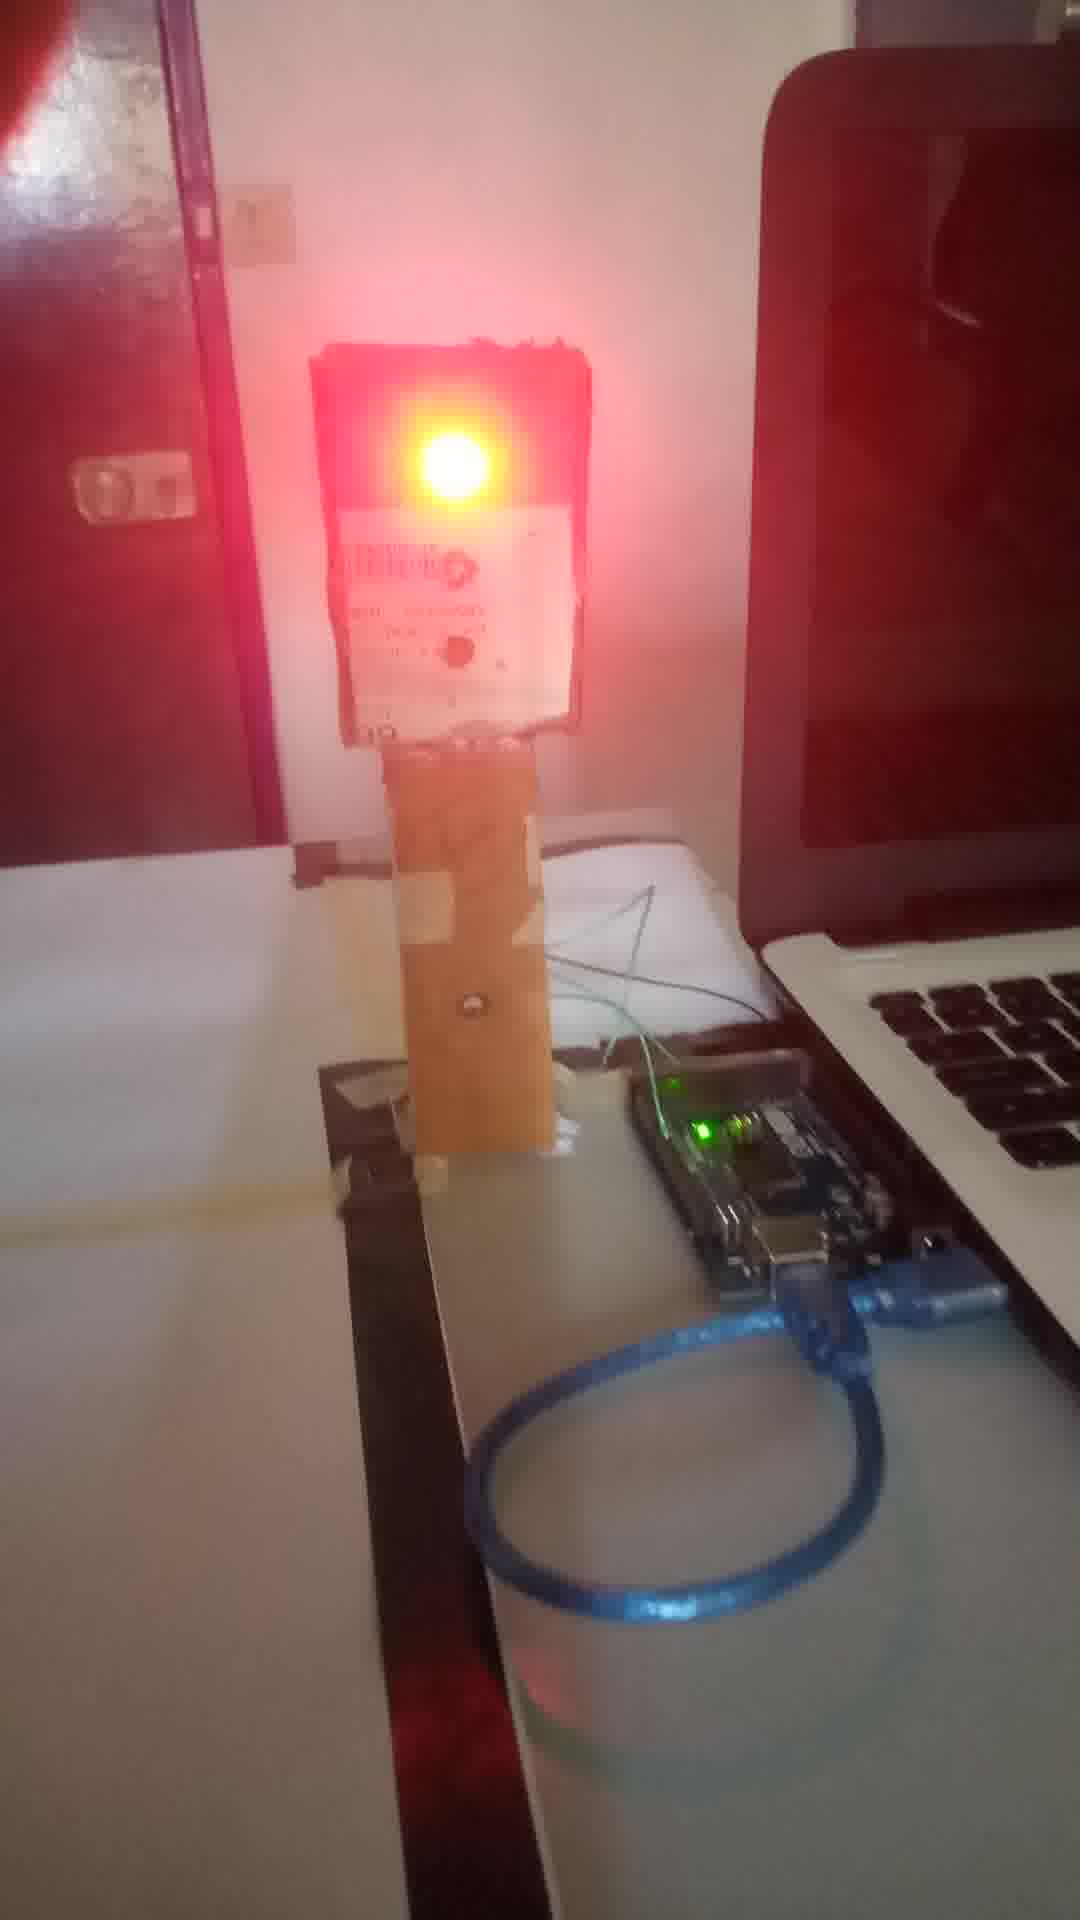red: (318, 351, 607, 727)
